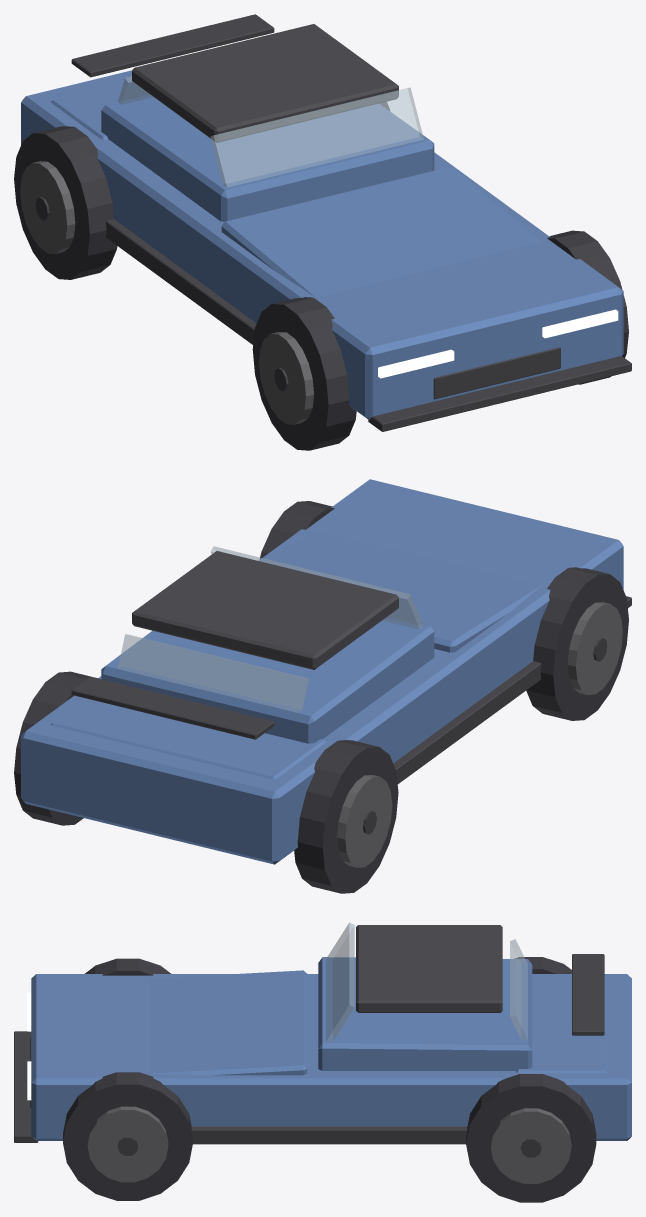
The model's file is muscle_epic.glb.
The picture shows the model from 3 angles, top to bottom: view 1: azimuth 30°, elevation 25°; view 2: azimuth 150°, elevation 25°; view 3: azimuth 270°, elevation 25°; orthographic projection. The views are drawn at different scales.
Parts seen in each view (by area): view 1: Body, Cabin, Hood, Roof, Windshield, RLTire, FLTire, Splitter, Spoiler, RLRim, FLRim, Skirt.001 (+5 smaller); view 2: Body, Cabin, Roof, Hood, Deck, RLTire, FLTire, RearGlass, Spoiler, FLRim, RLRim, Skirt.001 (+3 smaller); view 3: Body, Cabin, Hood, Roof, RRTire, FRTire, Deck, Skirt, FRRim, RRRim, Spoiler, Windshield (+4 smaller).
Boxes of the visible parts, left/top/right/bottom form: Body: left=21, top=70, right=623, bottom=419; Cabin: left=101, top=94, right=434, bottom=221; Hood: left=221, top=166, right=541, bottom=297; Roof: left=132, top=24, right=398, bottom=142; Windshield: left=211, top=87, right=423, bottom=187; RLTire: left=14, top=126, right=117, bottom=279; FLTire: left=252, top=297, right=356, bottom=450; Splitter: left=368, top=356, right=631, bottom=431; Spoiler: left=71, top=14, right=274, bottom=77; RLRim: left=20, top=161, right=75, bottom=253; FLRim: left=259, top=332, right=313, bottom=424; Skirt.001: left=106, top=219, right=256, bottom=344; Body: left=21, top=479, right=623, bottom=864; Cabin: left=101, top=616, right=434, bottom=743; Roof: left=132, top=551, right=398, bottom=669; Hood: left=264, top=530, right=541, bottom=652; Deck: left=51, top=698, right=325, bottom=779; RLTire: left=294, top=740, right=398, bottom=893; FLTire: left=526, top=567, right=628, bottom=720; RearGlass: left=118, top=634, right=308, bottom=712; Spoiler: left=71, top=676, right=274, bottom=739; FLRim: left=567, top=602, right=622, bottom=694; RLRim: left=337, top=775, right=392, bottom=867; Skirt.001: left=393, top=661, right=541, bottom=784; Body: left=31, top=974, right=631, bottom=1140; Cabin: left=318, top=957, right=532, bottom=1070; Hood: left=148, top=970, right=307, bottom=1075; Roof: left=356, top=925, right=502, bottom=1012; RRTire: left=466, top=1074, right=596, bottom=1202; FRTire: left=63, top=1072, right=193, bottom=1200; Deck: left=516, top=978, right=606, bottom=1073; Skirt: left=191, top=1126, right=467, bottom=1144; FRRim: left=87, top=1106, right=168, bottom=1182; RRRim: left=490, top=1108, right=571, bottom=1183; Spoiler: left=572, top=954, right=604, bottom=1035; Windshield: left=326, top=922, right=354, bottom=1041.
Size of the model in its own units: 1.6 by 0.9501 by 3.03.
